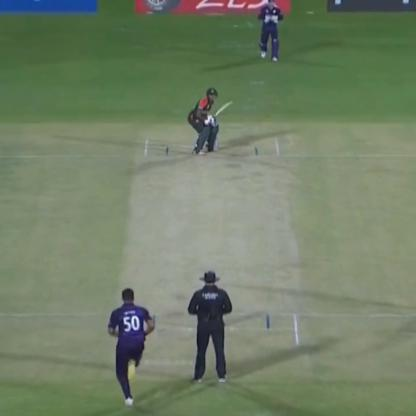bat: (203, 106, 241, 126)
pitch: (107, 131, 304, 394)
